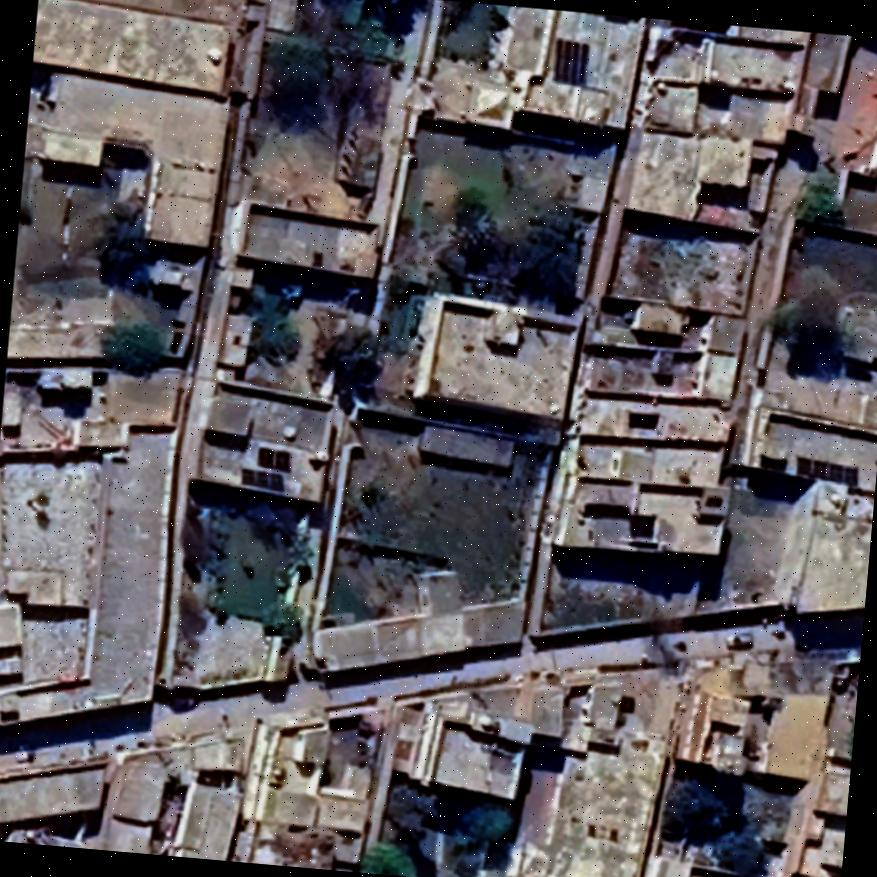Solarpanel: (788, 451, 864, 491), (546, 32, 593, 92), (236, 465, 290, 496), (250, 442, 296, 476)
